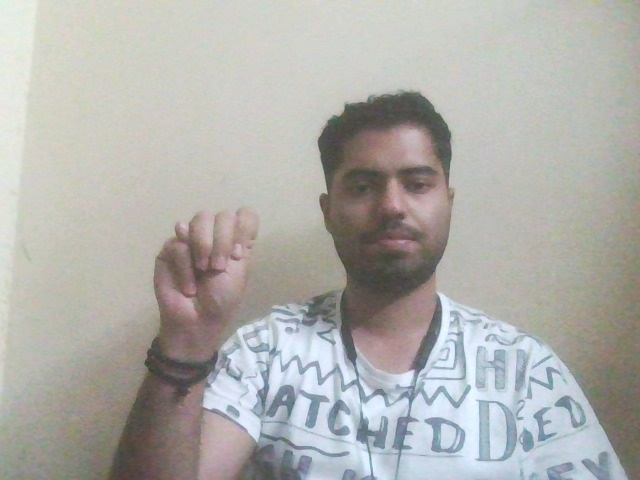O: (142, 184, 280, 335)
